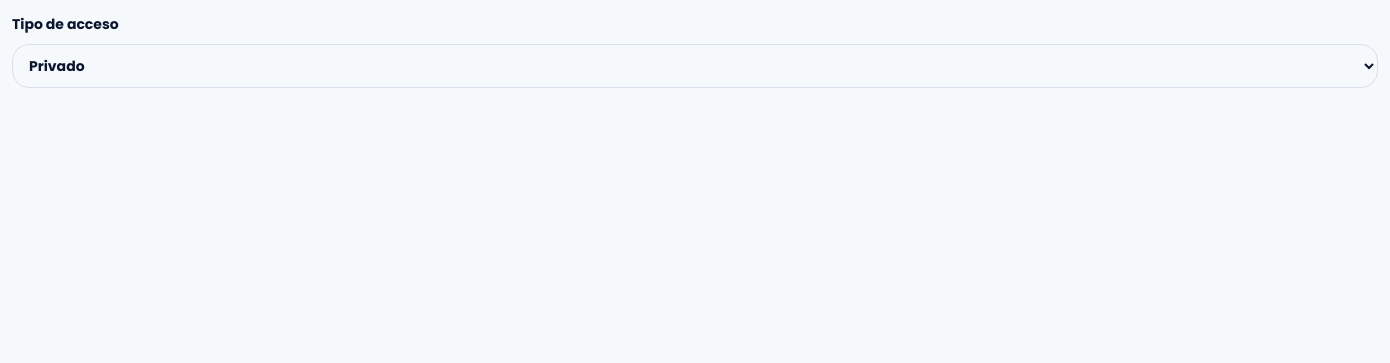
Test: muestra opciones públicas sólo al seleccionar acceso público
Expected: the text "Mostrar como banner destacado" is not shown
Select "Público" in the dropdown labelled "Tipo de acceso". click: (695,66)
box: [12,44,1378,88]
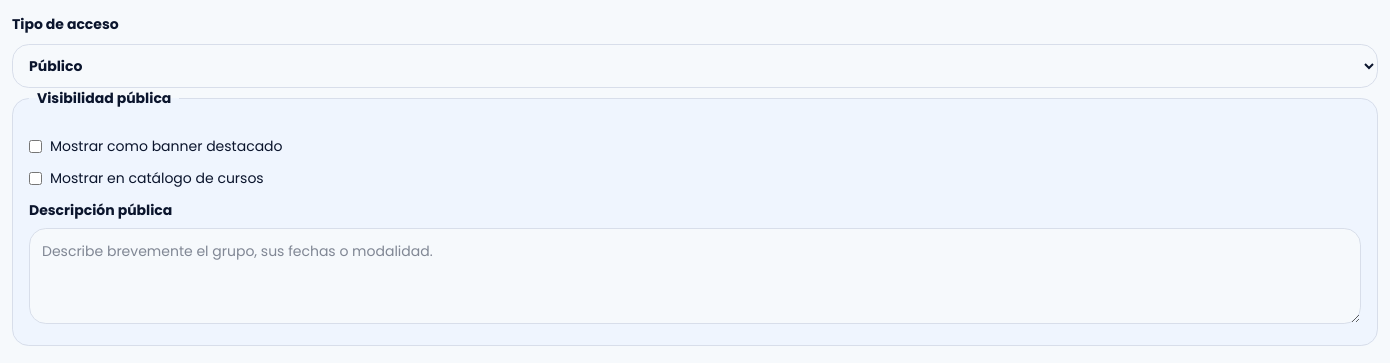
Expected: the text "Mostrar como banner destacado" is shown, [29,136,282,156]
Expected: the text "Mostrar en catálogo de cursos" is shown, [29,168,264,188]
